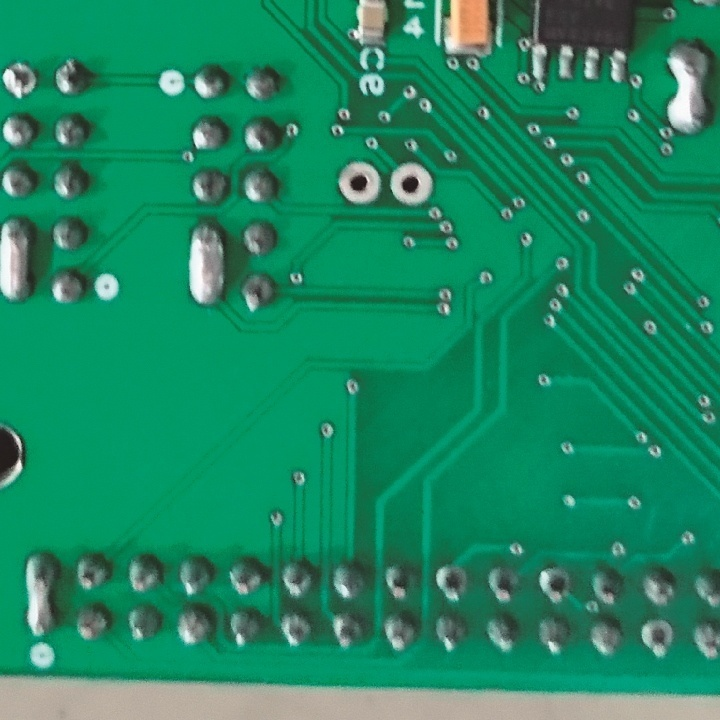F: (389, 160, 435, 209), (338, 159, 382, 207), (1, 59, 44, 102), (535, 563, 573, 606), (641, 616, 674, 662), (436, 563, 469, 603)
P: (661, 38, 716, 138), (186, 220, 230, 307), (1, 212, 39, 306), (21, 546, 58, 638)
